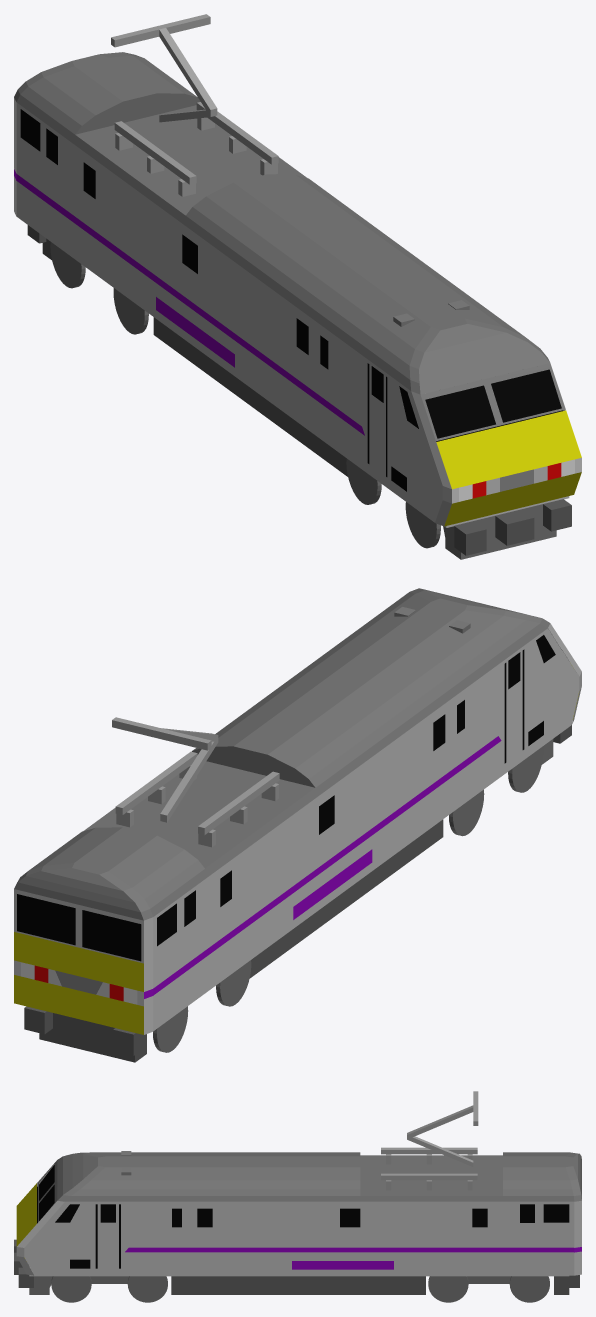
The picture shows the model from 3 angles, top to bottom: view 1: azimuth 30°, elevation 25°; view 2: azimuth 150°, elevation 25°; view 3: azimuth 270°, elevation 25°; orthographic projection. The views are drawn at different scales.
Parts seen in each view (by area): view 1: Plane_019, Plane_064, Plane_001, Plane_027, Plane_030, Plane_014, Plane_052, Cube_033, Plane_068, Plane_015, Plane_070, Plane_069 (+19 smaller); view 2: Plane_019, Plane_064, Plane_027, Plane_001, Plane_030, Plane_053, Plane_031, Plane_034, Cube_033, Plane_068, Plane_070, Plane_069 (+20 smaller); view 3: Plane_019, Plane_020, Plane_096, Plane_001, Plane_030, Cube_033, Plane_023, Plane_099, Plane_003, Plane_007, Plane, Plane_098 (+28 smaller).
Part boxes in pixels (x1,y1,x2,y2): Plane_019: (14,52,448,332); Plane_064: (16,103,360,417); Plane_001: (331,266,550,394); Plane_027: (16,181,387,487); Plane_030: (75,105,306,215); Plane_014: (436,410,581,489); Plane_052: (425,369,562,441); Cube_033: (153,317,347,476); Plane_068: (16,167,442,485); Plane_015: (444,472,581,526); Plane_070: (16,174,364,435); Plane_069: (348,381,439,475); Plane_019: (14,647,468,920); Plane_064: (153,686,496,980); Plane_027: (153,722,523,1030); Plane_001: (334,588,550,685); Plane_030: (84,761,314,868); Plane_053: (17,894,141,961); Plane_031: (14,932,143,991); Plane_034: (14,975,143,1034); Cube_033: (249,819,443,978); Plane_068: (153,672,578,987); Plane_070: (153,736,501,995); Plane_069: (484,652,575,729); Plane_019: (167,1152,581,1201); Plane_020: (131,1206,476,1243); Plane_096: (95,1247,436,1275); Plane_001: (57,1152,197,1201); Plane_030: (360,1155,502,1195); Cube_033: (171,1276,425,1294); Plane_023: (416,1252,574,1275); Plane_099: (445,1201,574,1243); Plane_003: (25,1243,574,1247); Plane_007: (125,1247,574,1252); Plane: (29,1224,145,1243); Plane_098: (163,1201,480,1206).
Bounding box in the file's own units: 2.02 × 11.15 × 3.87.
